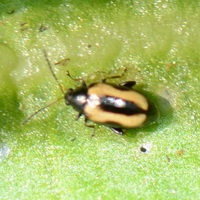insect: (64, 78, 154, 134)
